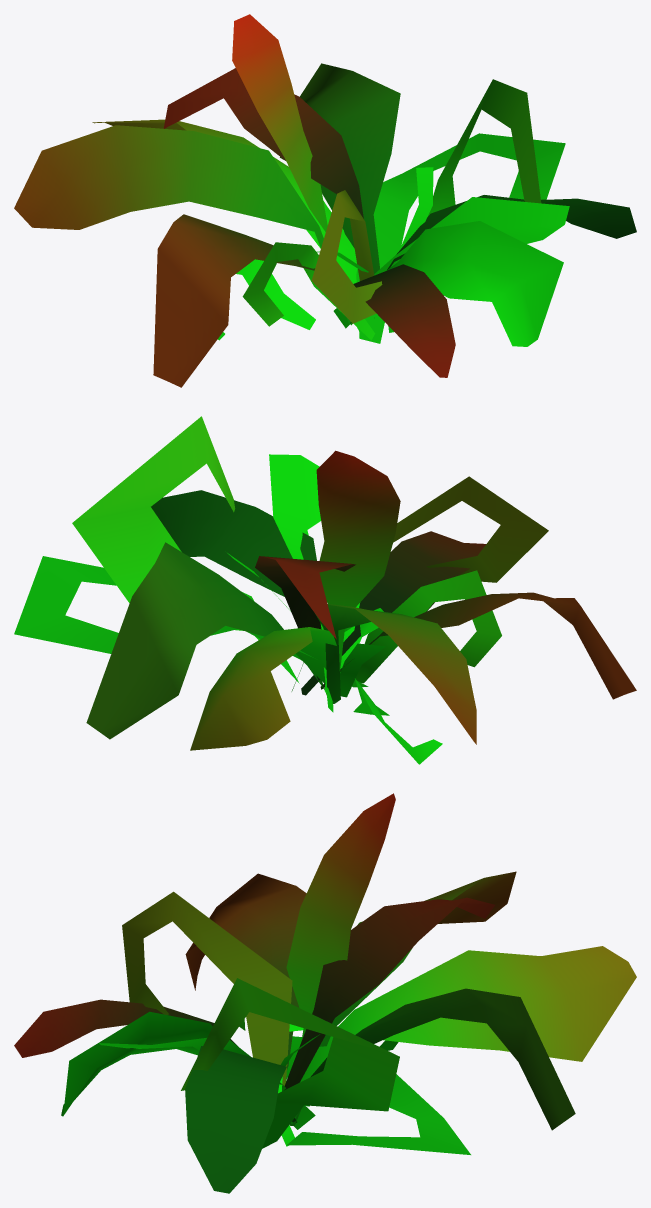
File: Fern_LOD1_Var6_rmAsg.fbx
The picture shows the model from 3 angles, top to bottom: view 1: azimuth 30°, elevation 25°; view 2: azimuth 150°, elevation 25°; view 3: azimuth 270°, elevation 25°; orthographic projection. The views are drawn at different scales.
Parts seen in each view (by area): view 1: _7c3d_Var6_LOD1; view 2: _7c3d_Var6_LOD1; view 3: _7c3d_Var6_LOD1.
Boxes of the visible parts, x1=… form: _7c3d_Var6_LOD1: x1=14, y1=14, x2=636, y2=387; _7c3d_Var6_LOD1: x1=14, y1=416, x2=636, y2=764; _7c3d_Var6_LOD1: x1=14, y1=793, x2=636, y2=1193.
Size of the model in its own units: 167 by 94.99 by 176.
